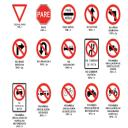NoUltrapassar: (60, 36, 77, 62)
NoVirarDireita: (12, 37, 28, 59)
NoVirarEsquerda: (104, 4, 123, 26)
NoVirarU: (36, 37, 51, 61)
Pare: (34, 4, 52, 26)
preferencia: (12, 2, 27, 22)
